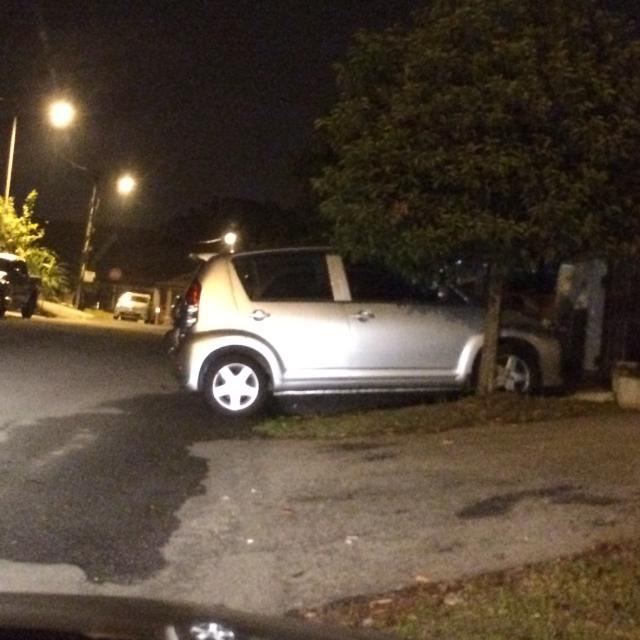Car: (153, 192, 605, 490)
